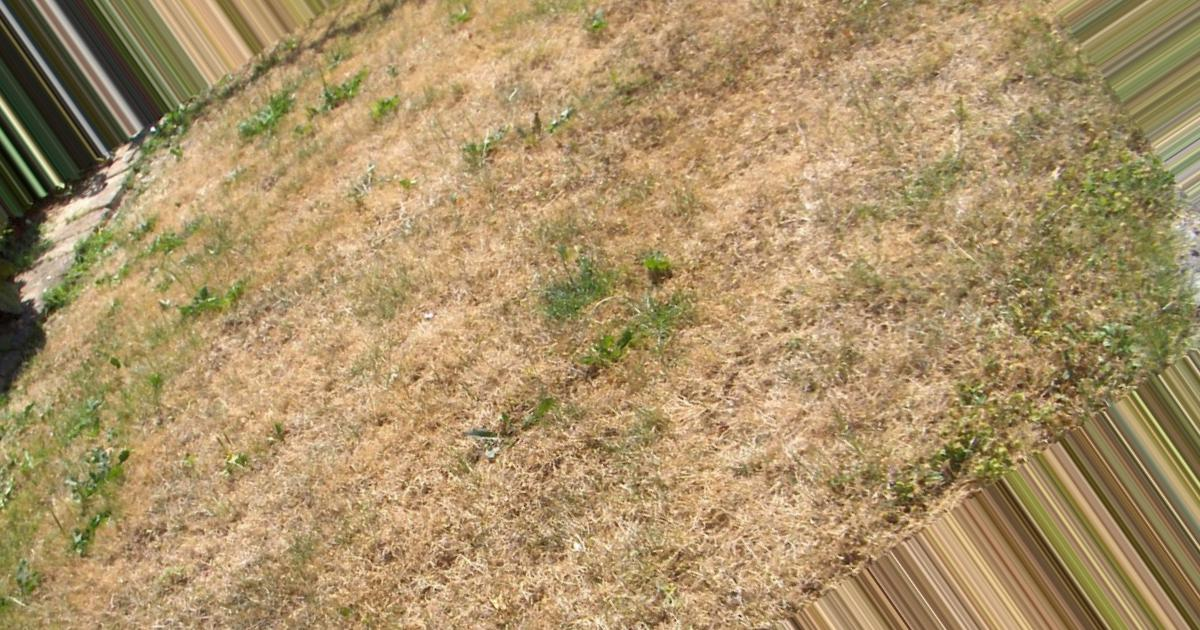patch: (193, 335, 545, 617), (595, 344, 773, 567), (634, 149, 804, 310), (261, 199, 468, 317), (784, 326, 957, 467), (409, 31, 498, 122), (859, 108, 925, 174), (511, 183, 591, 226), (195, 153, 245, 217), (488, 237, 527, 310), (375, 142, 448, 178), (286, 124, 332, 178)
